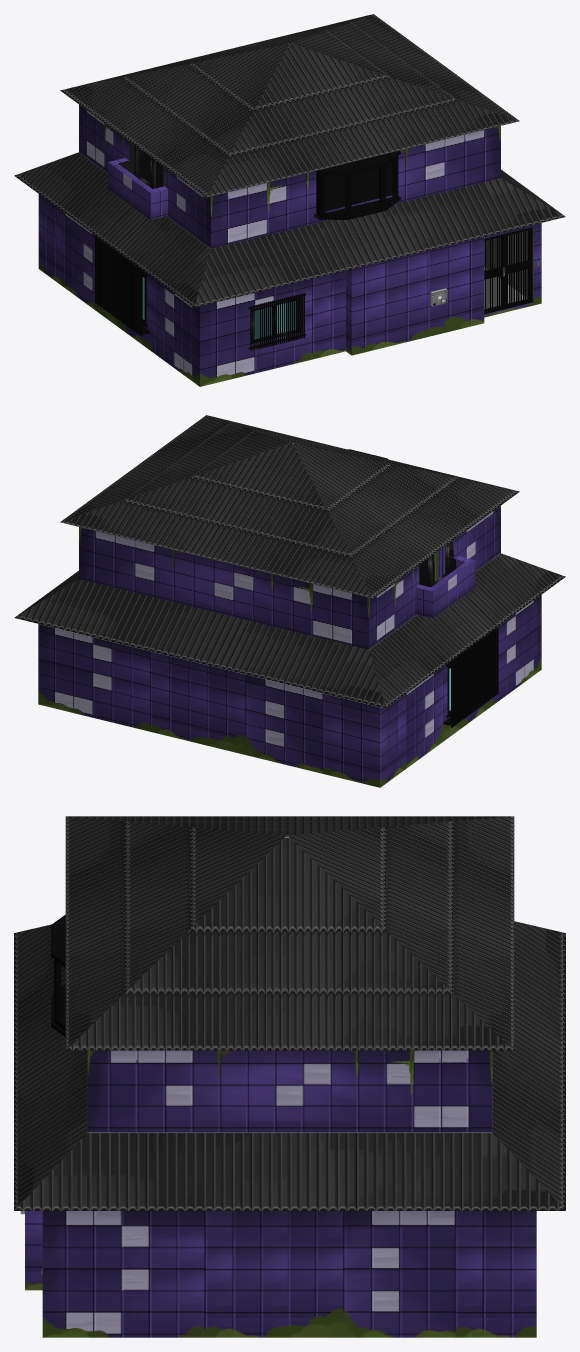
The model's file is House_3_Blue_empty.fbx.
3 views of the same model, one above another, from view 1: azimuth 30°, elevation 25°; view 2: azimuth 150°, elevation 25°; view 3: azimuth 270°, elevation 25° (orthographic). The views are drawn at different scales.
Parts seen in each view (by area): view 1: A2, A, A3, Cube.054, Cube.056, Cube.078, Cube.058, Cube.063; view 2: A2, A, A3, Cube.054; view 3: A, A2, A3.
Boxes of the visible parts, box(x1,y1,x2,y2) form: A2: box(14, 43, 565, 307); A: box(60, 14, 519, 197); A3: box(38, 194, 541, 386); Cube.054: box(95, 236, 142, 336); Cube.056: box(250, 293, 304, 350); Cube.078: box(505, 227, 532, 308); Cube.058: box(484, 234, 505, 314); Cube.063: box(251, 298, 299, 344); A2: box(14, 442, 565, 708); A: box(60, 415, 519, 598); A3: box(38, 595, 541, 787); Cube.054: box(451, 627, 498, 727); A: box(65, 816, 514, 1050); A2: box(14, 835, 565, 1210); A3: box(25, 1211, 536, 1337).
Bounding box in the file's own units: 1371 × 860 × 1151.
